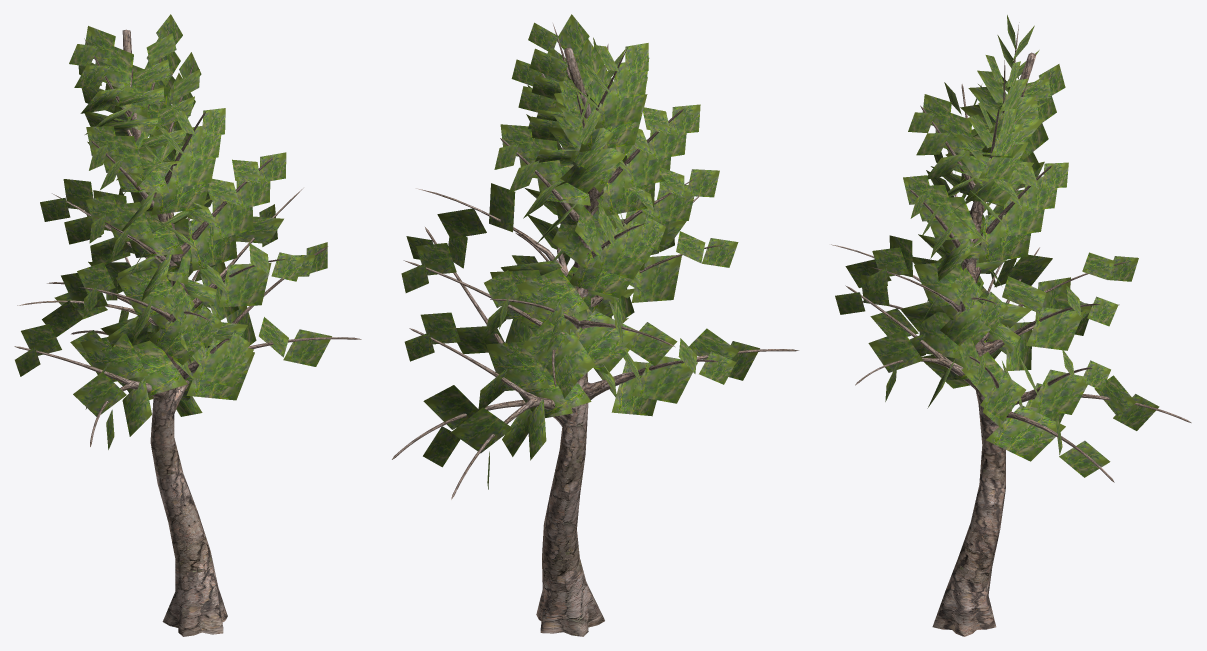
The model's file is Tree2.fbx.
3 renders of one model, left to right at view 1: azimuth 30°, elevation 25°; view 2: azimuth 150°, elevation 25°; view 3: azimuth 270°, elevation 25°, orthographic. The views are drawn at different scales.
Visible parts, largest first — view 1: branch09_1, bark08_0; view 2: branch09_1, bark08_0; view 3: branch09_1, bark08_0.
Boxes of the visible parts, x1,y1,x2,y2 form: branch09_1: (15,14,331,449); bark08_0: (14,26,361,636); branch09_1: (401,14,759,489); bark08_0: (392,24,798,636); branch09_1: (835,15,1159,477); bark08_0: (831,22,1191,636).
Bounding box in the file's own units: 274 × 494 × 289.
2 materials, 2 textured.
